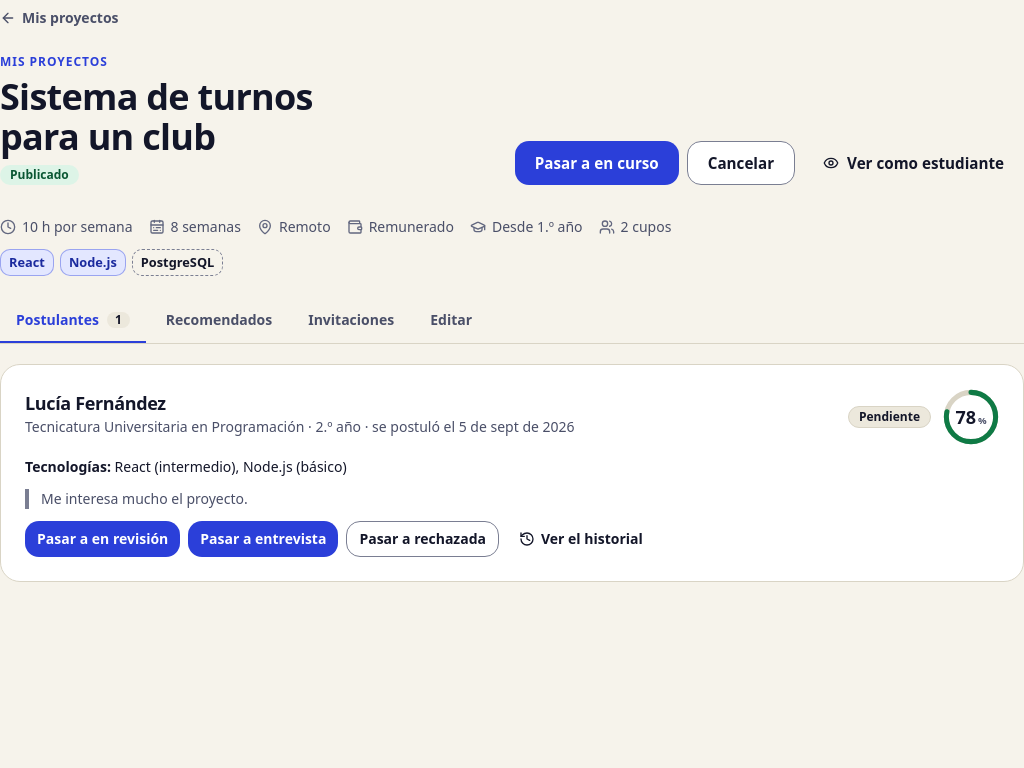
GestionProyectoPage › si el backend rechaza el cambio (409), el diálogo sigue abierto con el mensaje
What coordinates should you click on to do the following:
click the button "Pasar a rechazada"
I would click on:
 (423, 539)
Its box is [346,521,499,557].
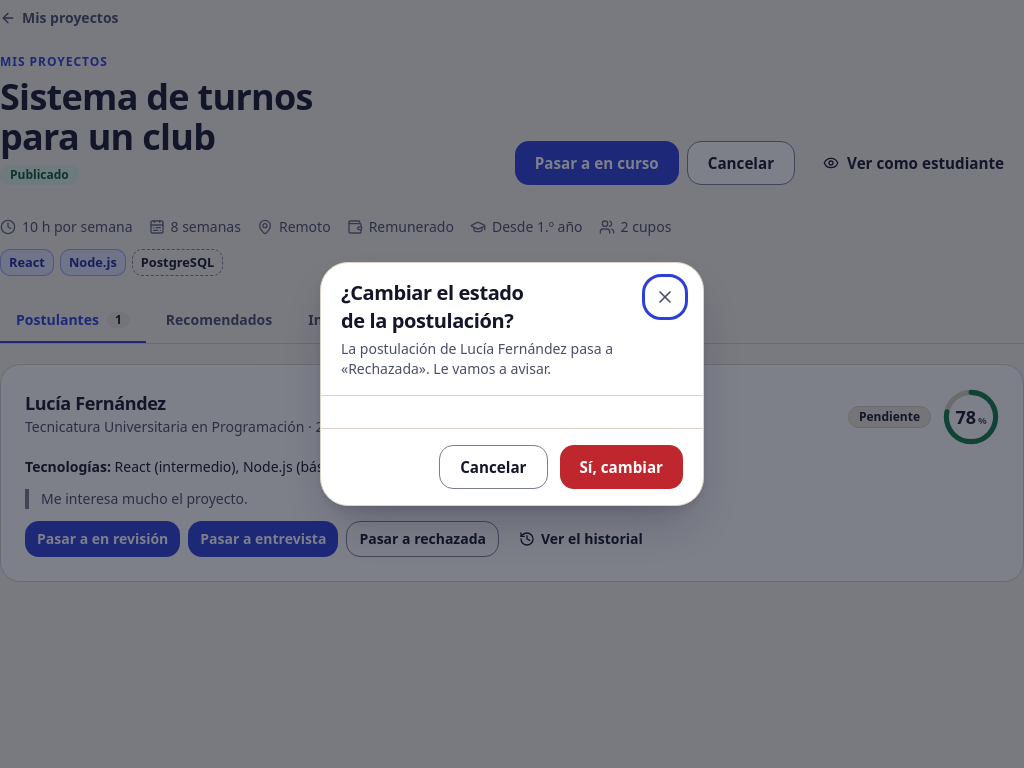
What coordinates should you click on to do the following:
click the button "Sí, cambiar"
I would click on:
 (621, 467)
Its box is [560,445,683,489].
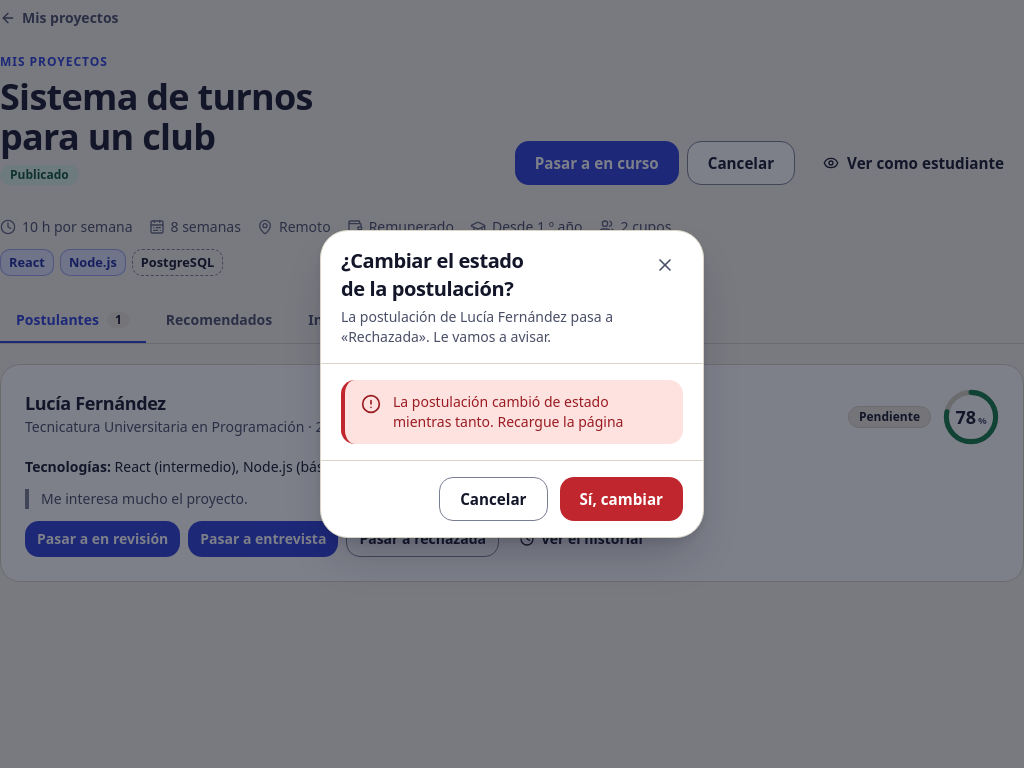
expect the text "La postulación cambió de estado mientras tanto. Recargue la página" is shown: met, box [393,392,623,431]
